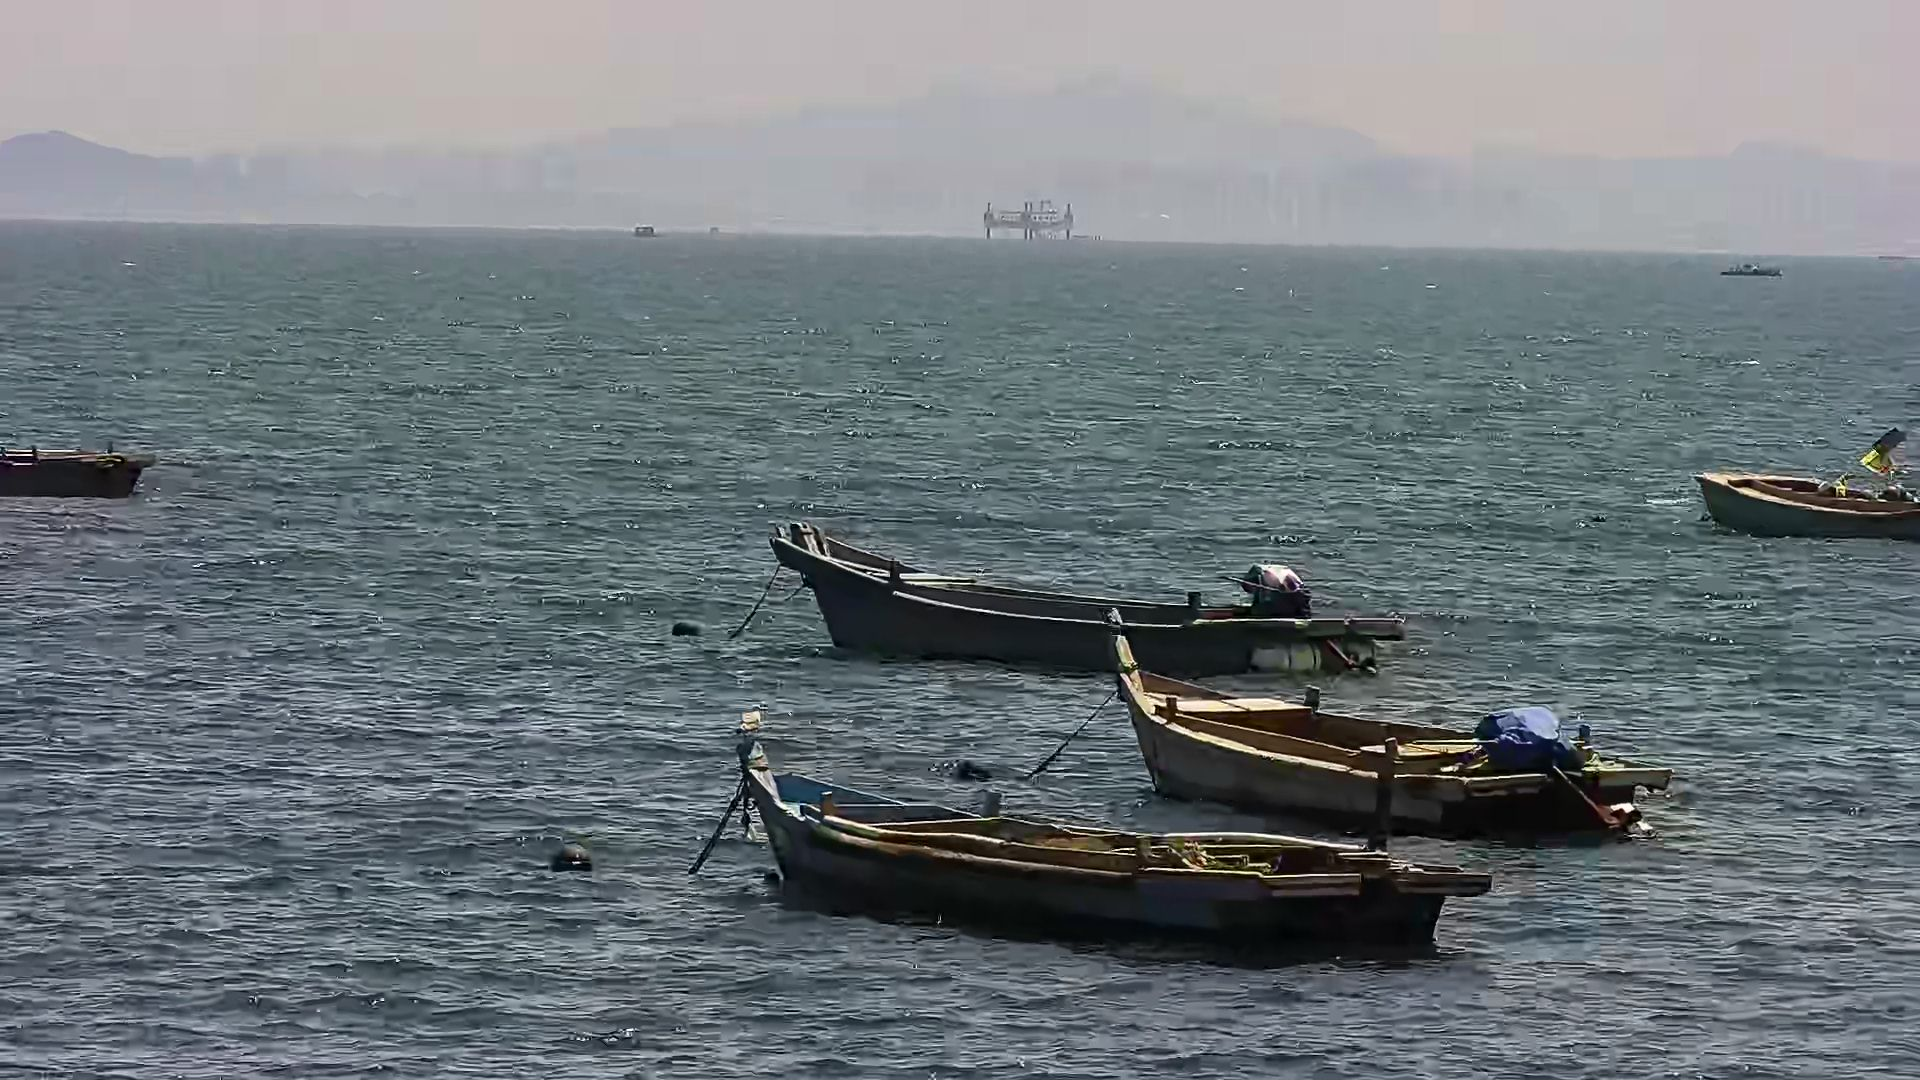ball: (539, 831, 604, 877), (658, 611, 717, 649)
boat: (692, 731, 1509, 969), (1076, 607, 1702, 849), (735, 502, 1414, 687), (1639, 419, 1920, 546), (1, 425, 166, 504), (1716, 244, 1803, 287)
platform: (967, 187, 1096, 243)
